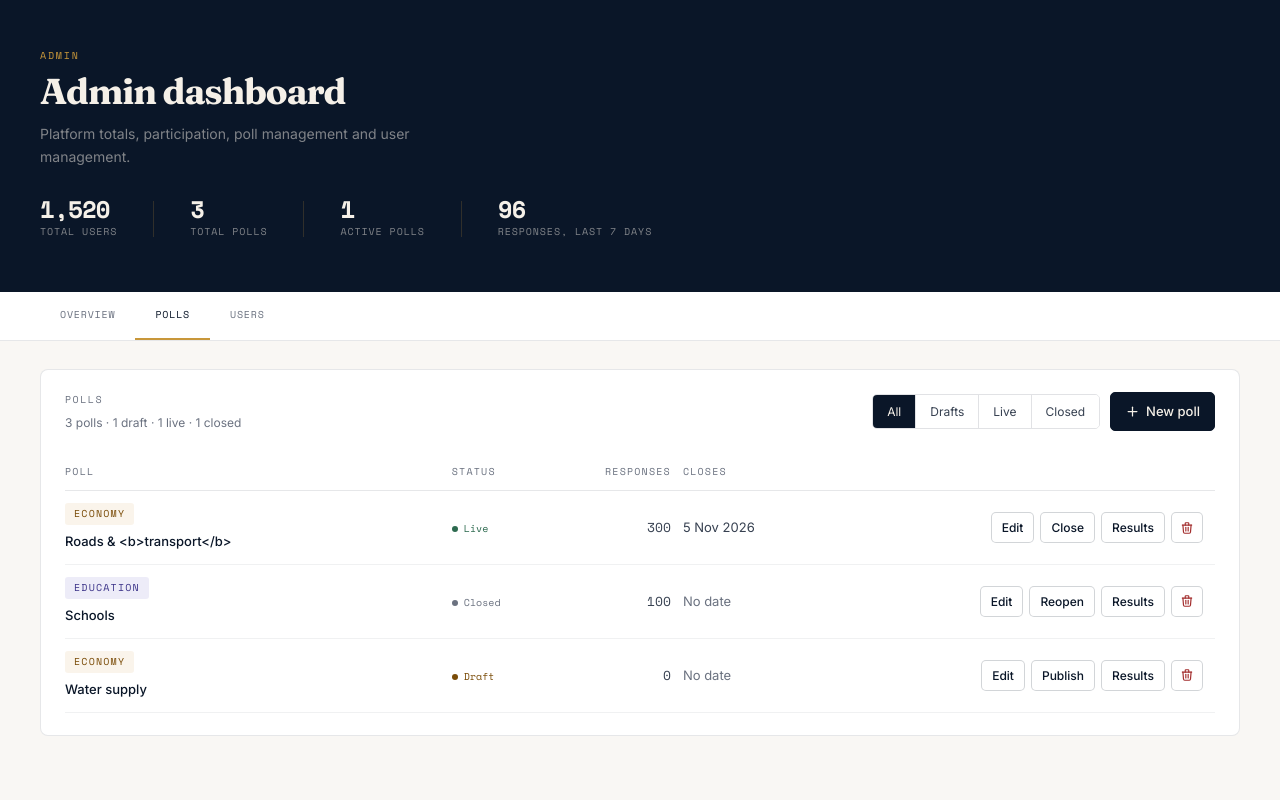
Test: poll list › publishes a draft and says so
Click the button "Publish" at (1063, 675), box top-left (1031, 660), bottom-right (1095, 691)
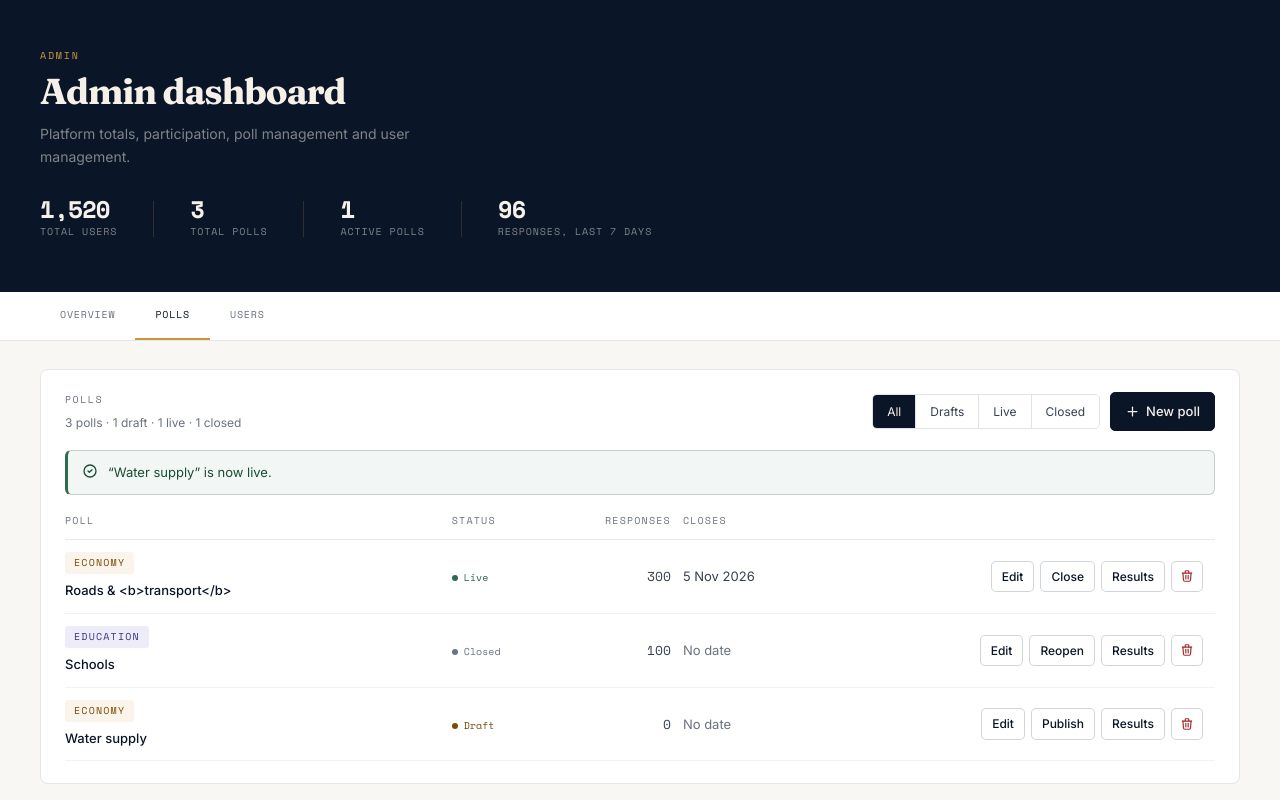
expect the message reads "“Water supply” is now live.": met, box top-left (108, 464), bottom-right (272, 480)
